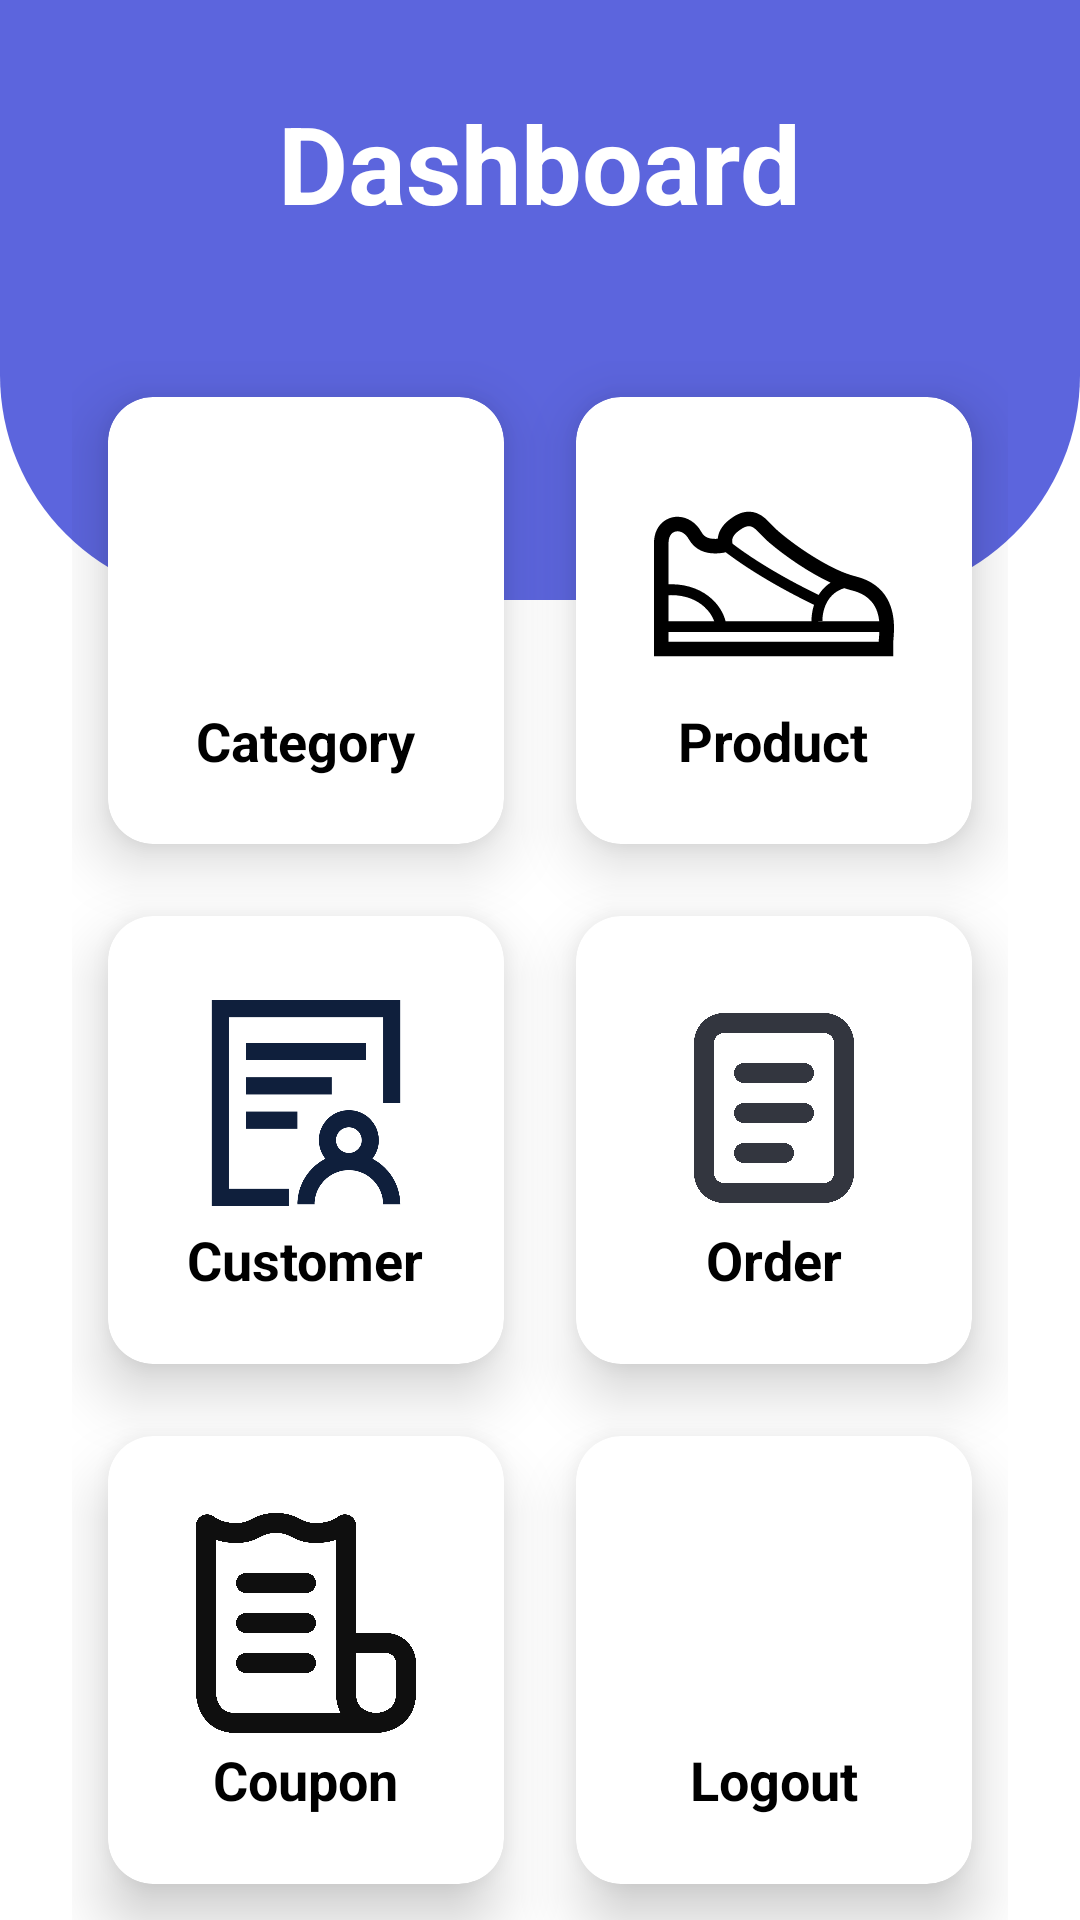

Point at icon controls on the screen. Image size 1080px x 1920px, points as point (x, y).
invoice: point (306, 1623)
shoes: point (774, 584)
